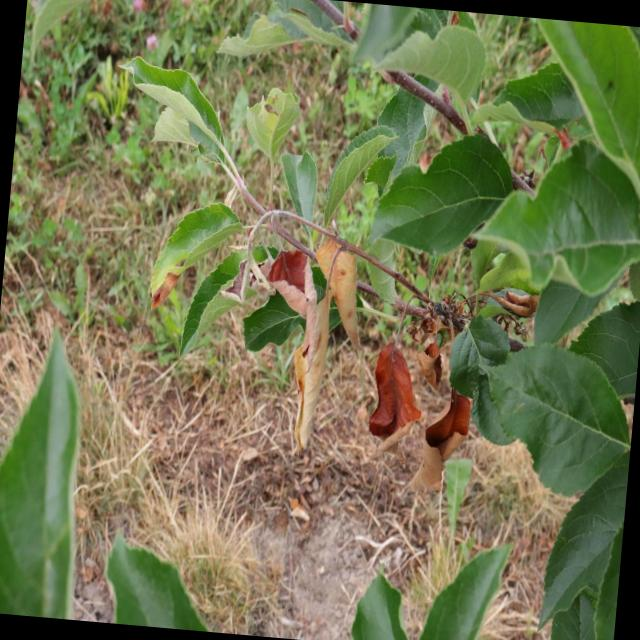-FireBlight-: (228, 208, 364, 464), (357, 310, 424, 454), (429, 384, 478, 490)
